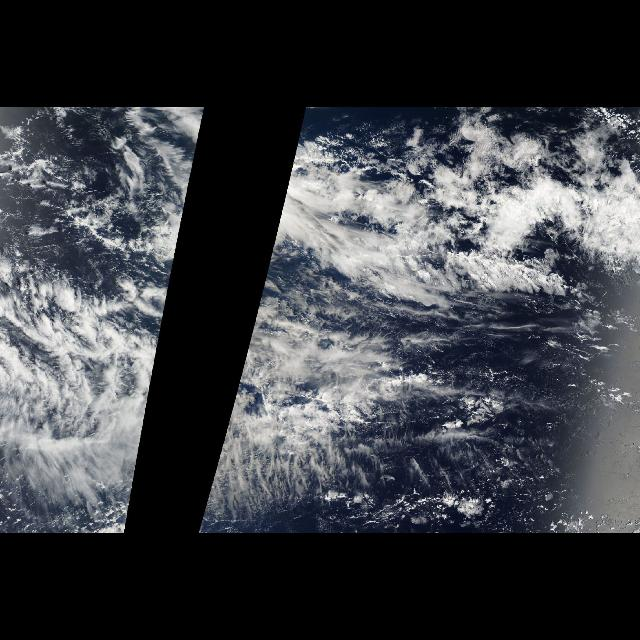Fish: (198, 113, 602, 529), (4, 113, 204, 529)
